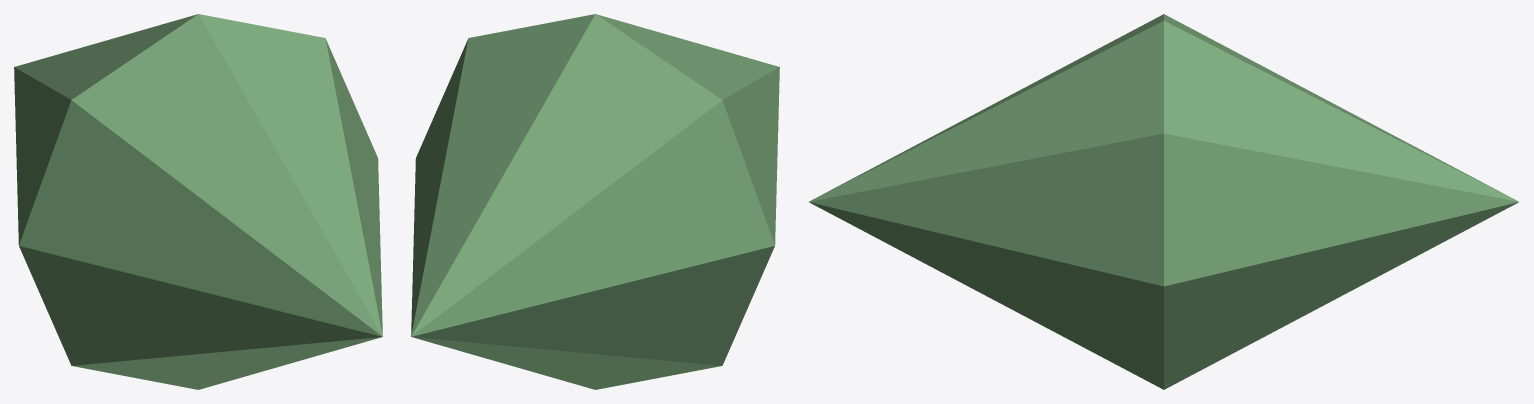
The model's file is earth_elemental_stone_blockout.glb.
3 renders of one model, left to right at view 1: azimuth 30°, elevation 25°; view 2: azimuth 150°, elevation 25°; view 3: azimuth 270°, elevation 25°, orthographic. The views are drawn at different scales.
Parts seen in each view (by area): view 1: earth_elemental_stone_blockout_0; view 2: earth_elemental_stone_blockout_0; view 3: earth_elemental_stone_blockout_0.
Boxes of the visible parts, bbox=[...] form: earth_elemental_stone_blockout_0: bbox=[14, 14, 382, 389]; earth_elemental_stone_blockout_0: bbox=[411, 14, 779, 389]; earth_elemental_stone_blockout_0: bbox=[809, 14, 1518, 389].
Size of the model in its own units: 0.9 by 0.9 by 1.6.
